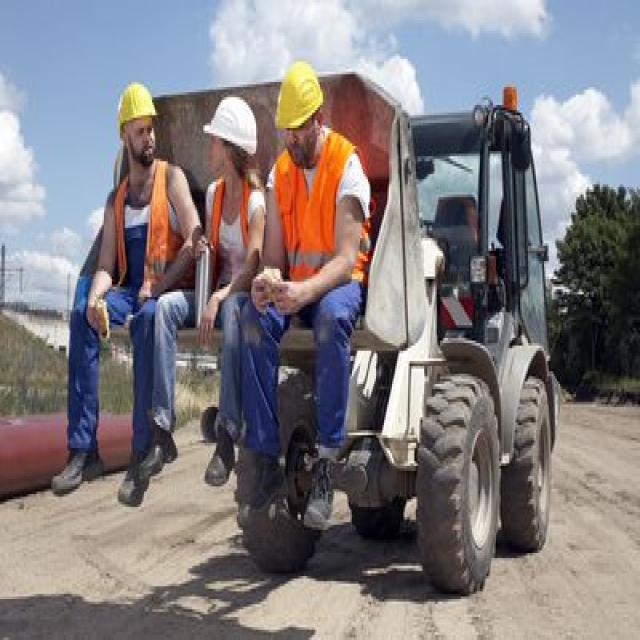Reflective-Jacket: (270, 138, 372, 323), (106, 159, 180, 307), (200, 172, 270, 275)
Safety-Helmet: (272, 54, 326, 136), (202, 90, 259, 156), (114, 76, 160, 130)
